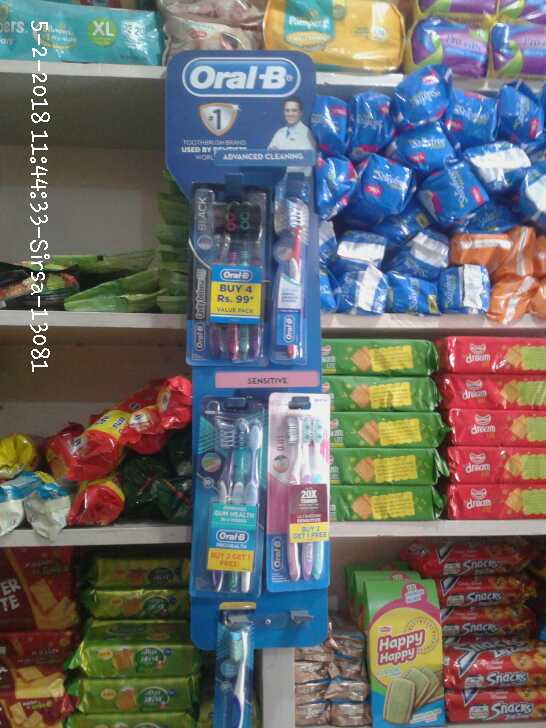oralb: (206, 409, 263, 600), (273, 414, 333, 583), (199, 199, 259, 355), (265, 198, 312, 358)
